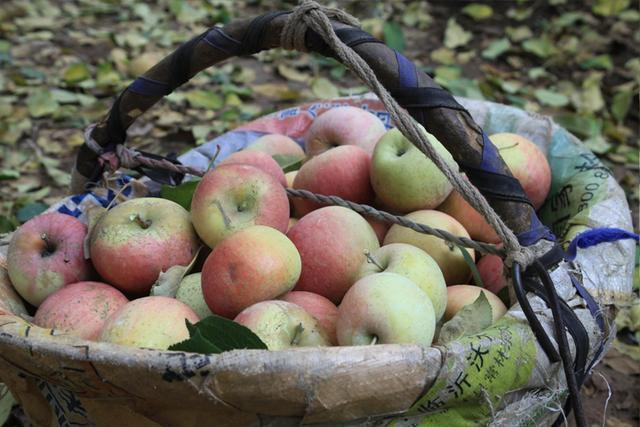apple: (85, 197, 197, 295), (286, 200, 381, 299), (201, 227, 303, 317), (190, 162, 289, 250), (335, 270, 436, 352), (4, 209, 88, 306), (371, 124, 459, 212), (357, 243, 445, 324), (382, 211, 478, 282), (34, 281, 125, 344), (99, 295, 199, 350), (291, 142, 376, 204), (488, 130, 553, 209), (232, 301, 328, 352), (300, 105, 387, 160)
